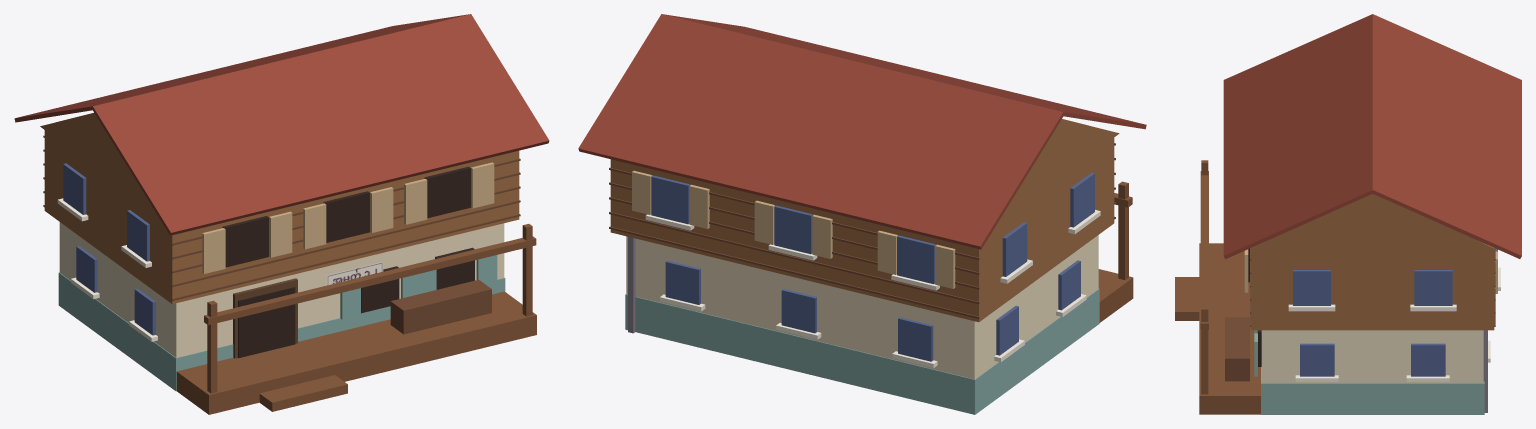
File: home.glb
3 renders of one model, left to right at view 1: azimuth 30°, elevation 25°; view 2: azimuth 150°, elevation 25°; view 3: azimuth 270°, elevation 25°, orthographic. The views are drawn at different scales.
Visible parts, largest first — view 1: roof, upper, porch, ground, skirt, porch-beam, bench, gables, door, uwin0, uwin1.6, uwin-1.6 (+21 smaller); view 2: roof, upper, ground, skirt, gables, win+y22.12, win+y12.12, win+y02.12, win+y00.9, win+y10.9, win+y20.9, porch (+14 smaller); view 3: roof, upper, ground, skirt, gables, porch, bench, win+x12.12, win+x02.12, porch-beam, win+x00.9, win+x10.9 (+3 smaller).
Boxes of the visible parts, left/top/right/bottom form: roof: left=14, top=14, right=549, bottom=235; upper: left=44, top=130, right=519, bottom=304; porch: left=176, top=291, right=536, bottom=414; ground: left=59, top=222, right=504, bottom=357; skirt: left=58, top=272, right=505, bottom=391; porch-beam: left=204, top=236, right=536, bottom=325; bench: left=390, top=279, right=491, bottom=334; gables: left=40, top=113, right=153, bottom=209; door: left=238, top=287, right=295, bottom=358; uwin0: left=323, top=191, right=369, bottom=242; uwin1.6: left=424, top=166, right=470, bottom=218; uwin-1.6: left=222, top=216, right=268, bottom=267; roof: left=578, top=14, right=1146, bottom=249; upper: left=610, top=138, right=1114, bottom=322; ground: left=626, top=235, right=1098, bottom=379; skirt: left=625, top=288, right=1099, bottom=414; gables: left=998, top=119, right=1119, bottom=221; win+y22.12: left=651, top=175, right=690, bottom=224; win+y12.12: left=774, top=205, right=812, bottom=254; win+y02.12: left=897, top=235, right=935, bottom=284; win+y00.9: left=898, top=317, right=933, bottom=361; win+y10.9: left=781, top=289, right=816, bottom=333; win+y20.9: left=665, top=260, right=700, bottom=304; porch: left=1098, top=269, right=1133, bottom=322; roof: left=1223, top=14, right=1521, bottom=259; upper: left=1251, top=248, right=1494, bottom=330; ground: left=1261, top=330, right=1483, bottom=383; skirt: left=1261, top=367, right=1484, bottom=414; gables: left=1251, top=194, right=1494, bottom=248; porch: left=1199, top=243, right=1260, bottom=414; bench: left=1225, top=317, right=1249, bottom=381; win+x12.12: left=1414, top=270, right=1452, bottom=305; win+x02.12: left=1293, top=270, right=1330, bottom=305; porch-beam: left=1200, top=171, right=1208, bottom=329; win+x00.9: left=1300, top=343, right=1334, bottom=376; win+x10.9: left=1411, top=343, right=1445, bottom=376.
Size of the model in its own units: 6 by 3.76 by 5.
Materials: 15 (1 with a texture image).
